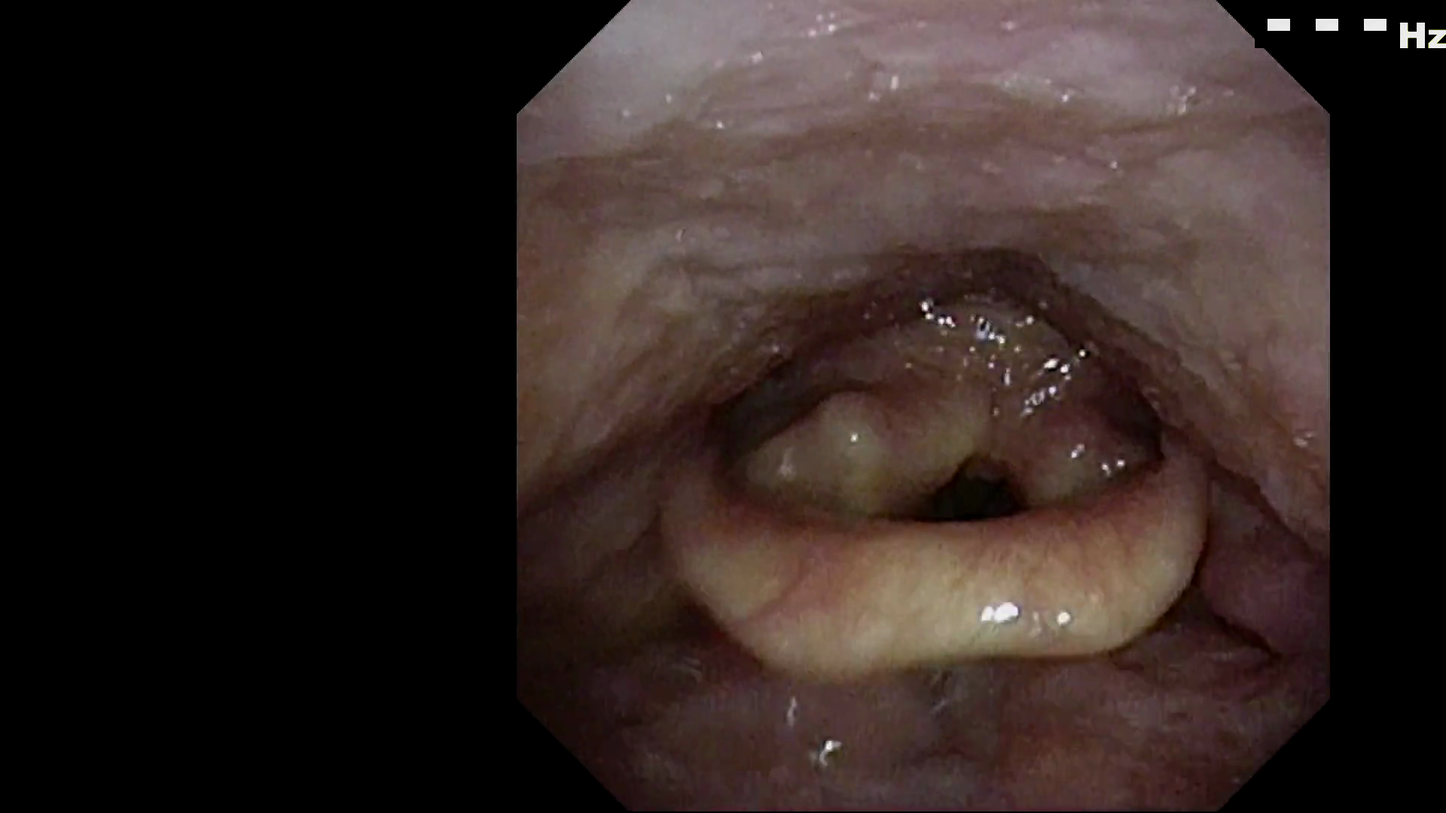epiglottis: (659, 460, 1217, 693)
trachea: (926, 476, 1009, 566)
